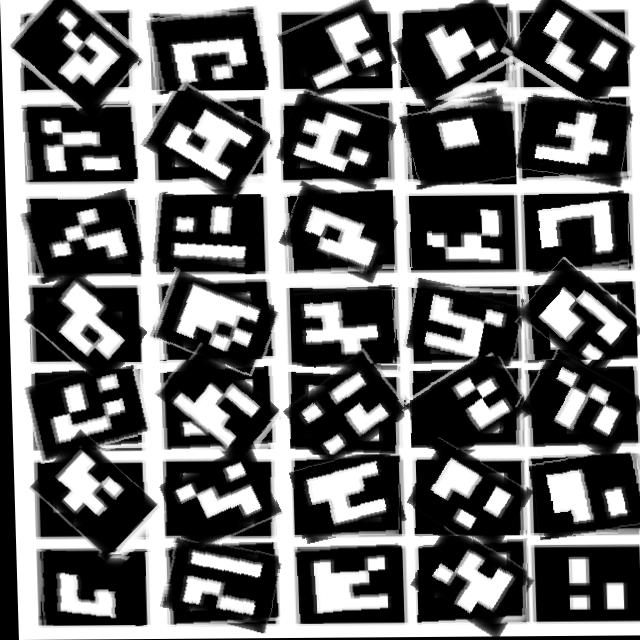aruco: (9, 0, 141, 109), (31, 447, 159, 553), (142, 91, 270, 194), (509, 0, 630, 104), (517, 271, 636, 375), (396, 4, 518, 104), (407, 357, 527, 457), (149, 278, 274, 373), (285, 360, 405, 458), (155, 359, 277, 455), (26, 277, 141, 376), (409, 449, 527, 545), (23, 369, 149, 458), (520, 360, 638, 453), (411, 536, 527, 630), (160, 453, 275, 546), (278, 96, 393, 186), (147, 8, 268, 93), (22, 193, 140, 279), (515, 98, 631, 185), (159, 542, 276, 628), (401, 98, 515, 186), (281, 4, 392, 94), (280, 190, 393, 276), (403, 283, 521, 365), (528, 454, 640, 538), (290, 455, 400, 539), (147, 194, 261, 272), (524, 194, 630, 275), (22, 108, 137, 180), (34, 551, 143, 626), (293, 546, 399, 623), (294, 287, 397, 364), (406, 197, 511, 269), (637, 546, 638, 547)
